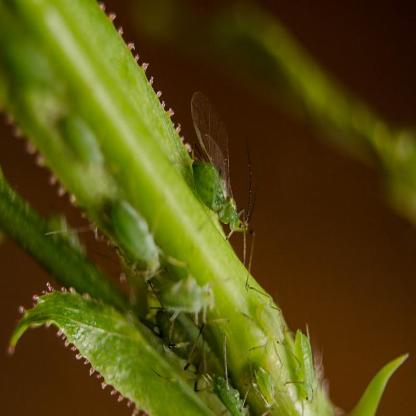aphid: (179, 89, 257, 254), (106, 193, 166, 292), (146, 262, 216, 344), (239, 282, 292, 361), (283, 324, 322, 412), (59, 110, 105, 178), (205, 364, 254, 416), (43, 214, 88, 260), (248, 362, 283, 413)
